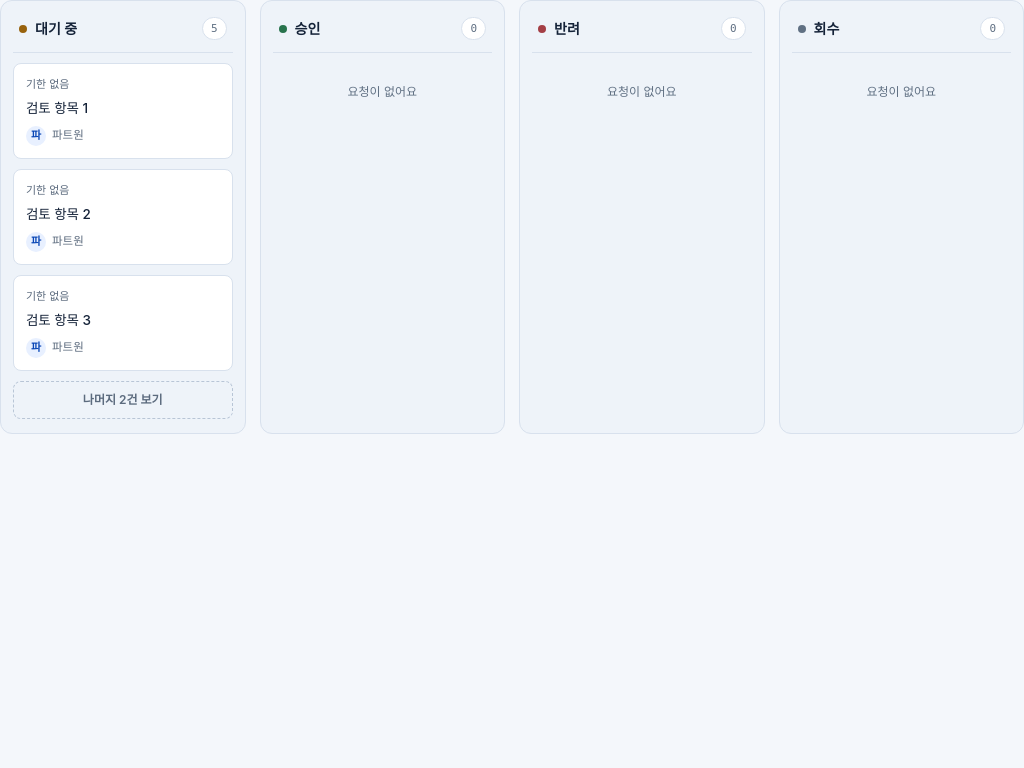
Test: ReviewKanban › shows three cards per column by default and lets the leader expand and collapse
This screenshot has width=1024, height=768.
Check: the text "검토 항목 1" is shown, box [26, 100, 88, 116]
Check: the text "검토 항목 3" is shown, box [26, 312, 91, 328]
Click the button "나머지 2건 보기" at (123, 400), box [13, 381, 232, 420]
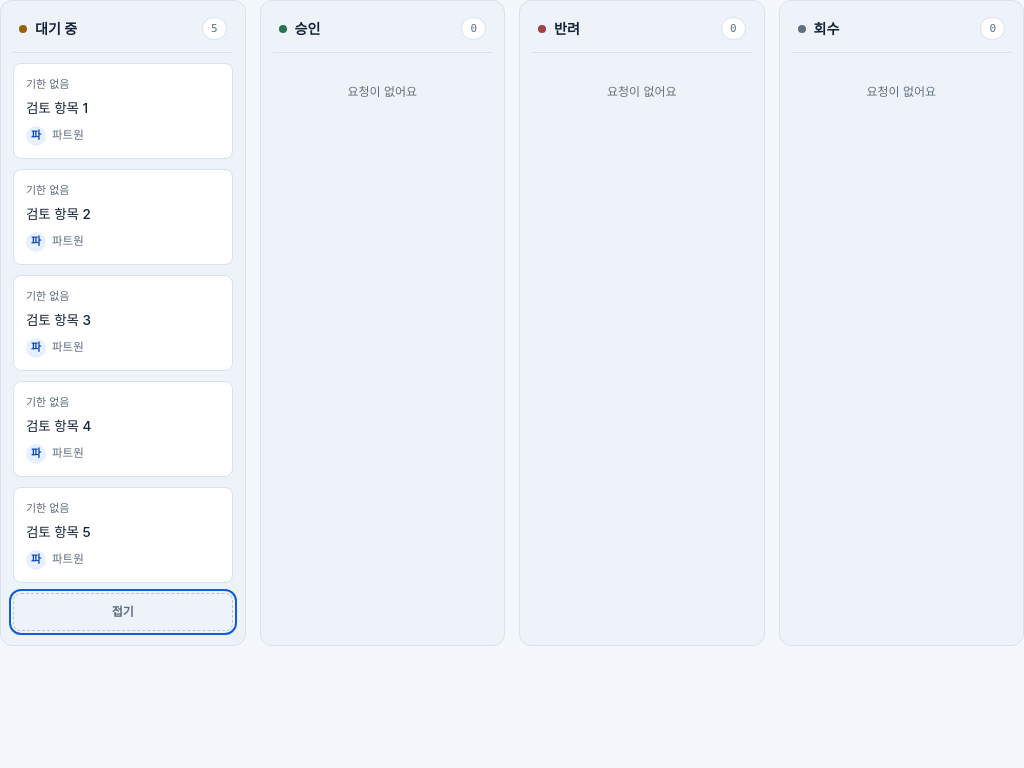
Check: the text "검토 항목 4" is shown, box [26, 418, 91, 434]
Check: the text "검토 항목 5" is shown, box [26, 524, 90, 540]
Click the button "접기" at (123, 612), box [13, 593, 232, 631]
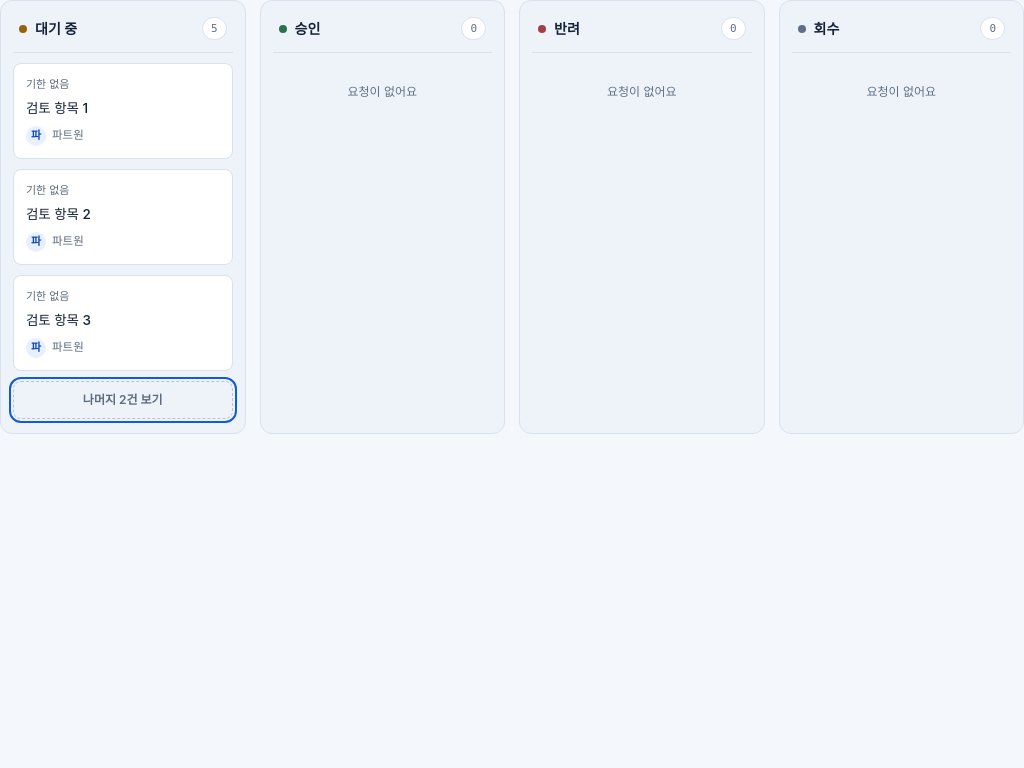
Check: the button "검토 항목 4" is gone
